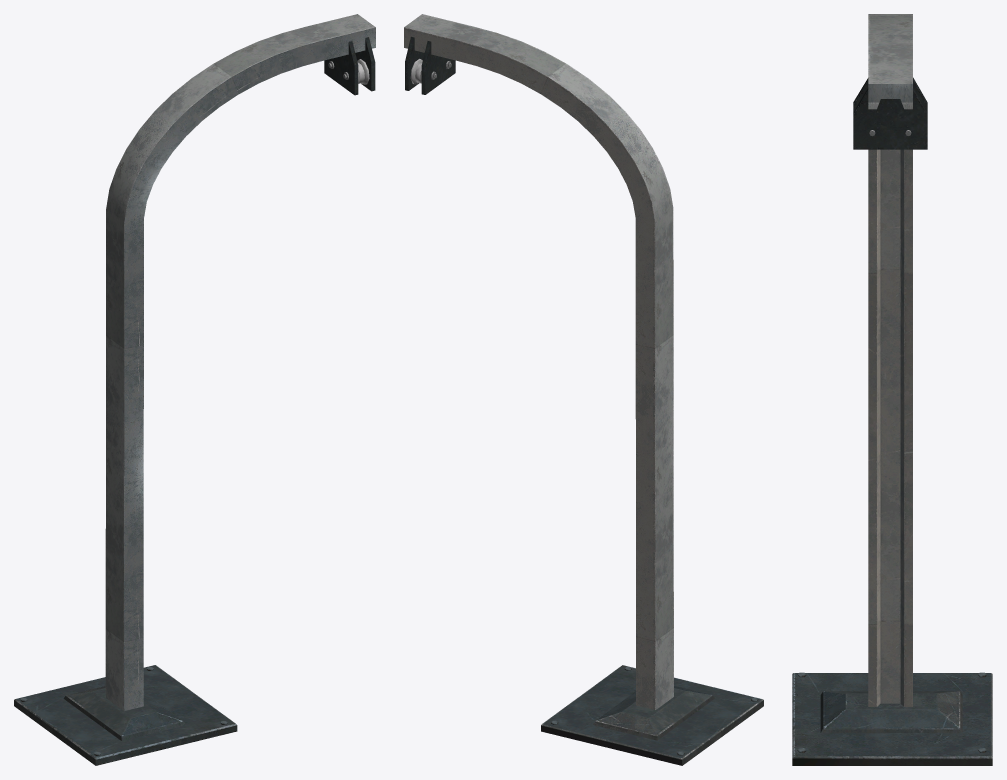
The model's file is Prop_Suodao01.glb.
3 renders of one model, left to right at view 1: azimuth 30°, elevation 25°; view 2: azimuth 150°, elevation 25°; view 3: azimuth 270°, elevation 25°, orthographic. The views are drawn at different scales.
Visible parts, largest first — view 1: xiutz_suodao_04; view 2: xiutz_suodao_04; view 3: xiutz_suodao_04.
Part boxes in pixels (box(x1,y1,x2,y2)): xiutz_suodao_04: box(14, 14, 375, 765); xiutz_suodao_04: box(404, 14, 763, 765); xiutz_suodao_04: box(792, 14, 992, 765).
Bounding box in the file's own units: 2.19 × 4.31 × 0.9979.
Materials: 1 (1 with a texture image).
